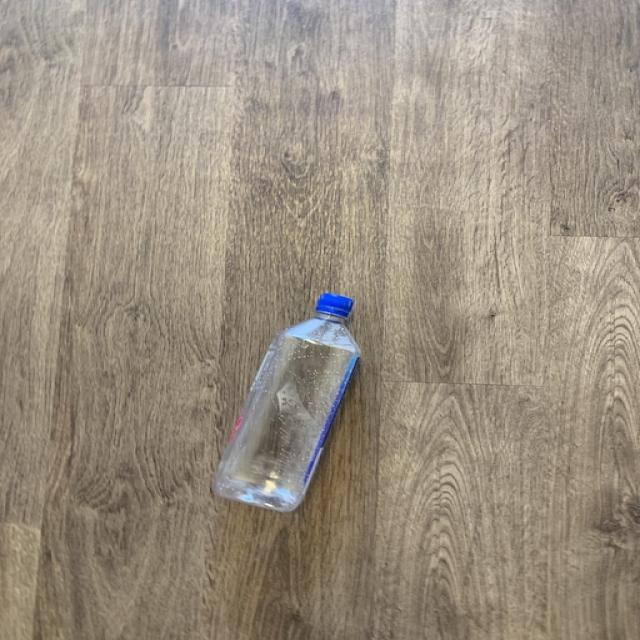Waste: (214, 293, 361, 513)
